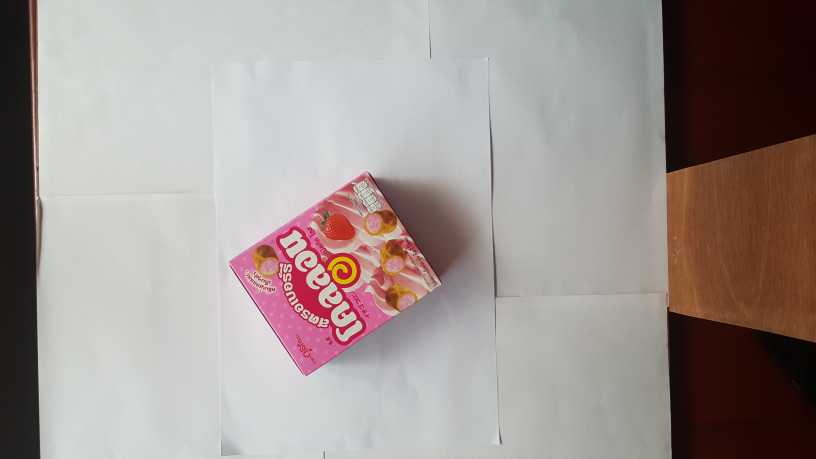collon-strawberry: (228, 171, 443, 376)
